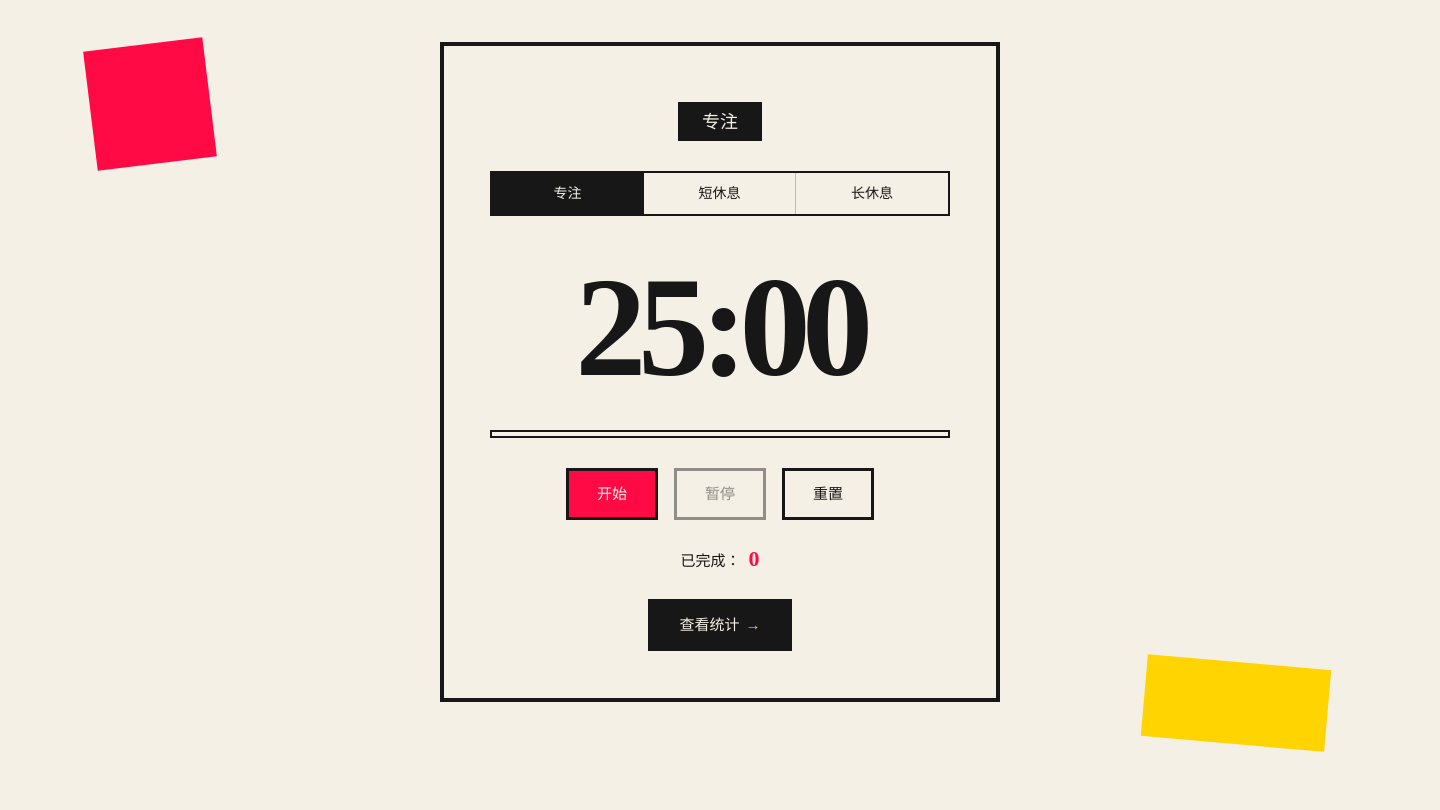
Test: switches timer modes from the home page
The width and height of the screenshot is (1440, 810).
Expected: the heading "25:00" is shown, [575,248,865,406]
Expected: the text "专注" is shown, [678,102,762,141]
Click the button "短休息" at {"x": 720, "y": 194}, box [644,173,796,214]
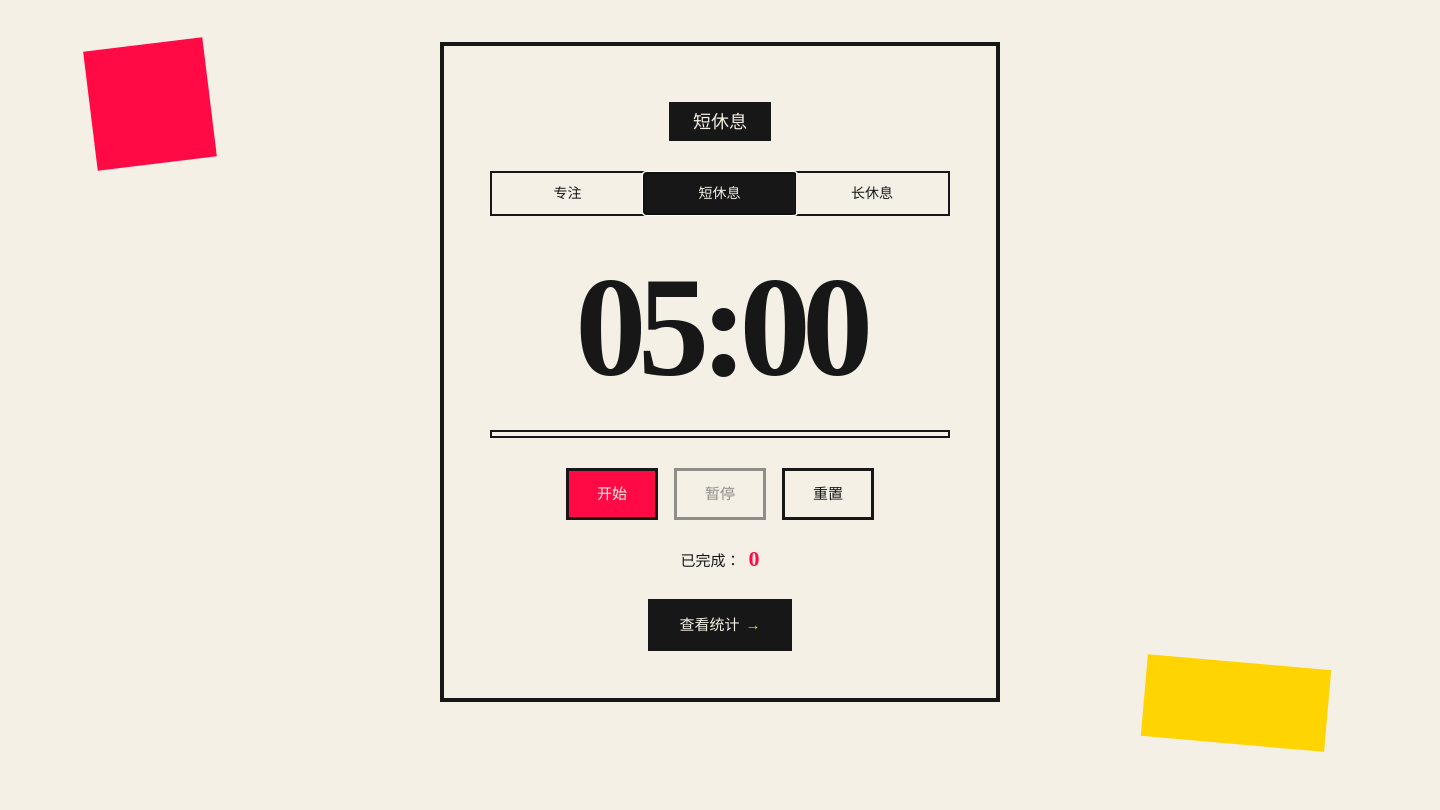
Now the text "短休息" is shown, box [669,102,771,141]
Now the heading "05:00" is shown, box [575,248,865,406]
Click the button "长休息" at {"x": 872, "y": 194}, box [796,173,948,214]
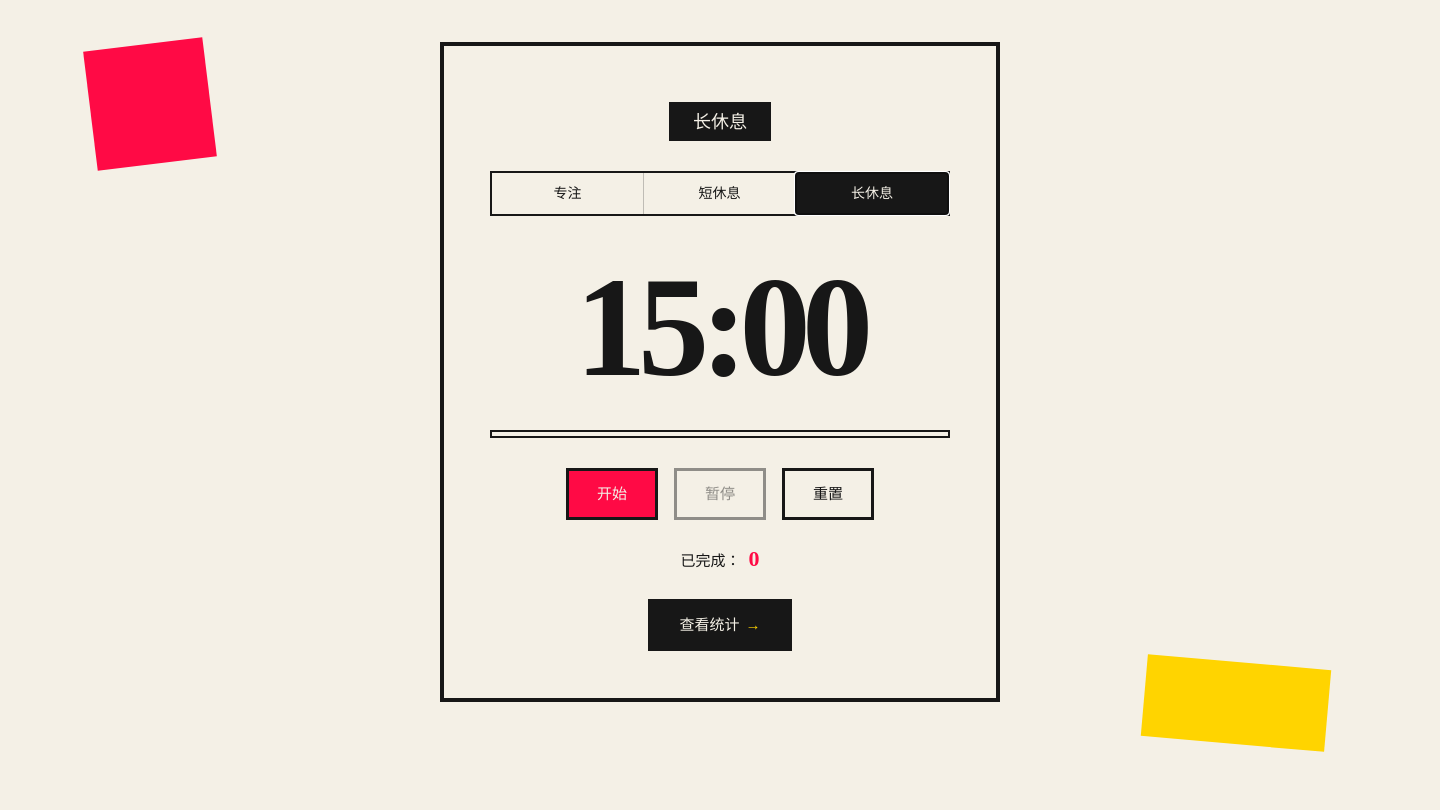
Now the text "长休息" is shown, box [669,102,771,141]
Now the heading "15:00" is shown, box [575,248,865,406]
